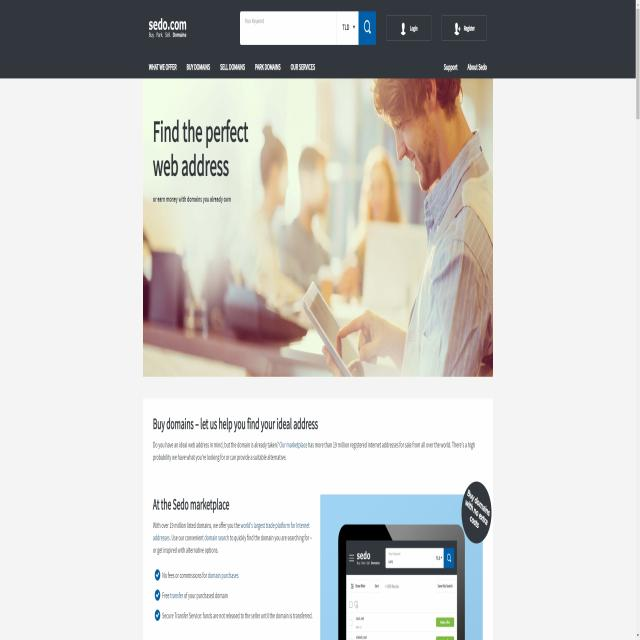menu-bar: (384, 11, 491, 47)
search: (238, 5, 378, 48)
tab-bar: (146, 51, 318, 72)
